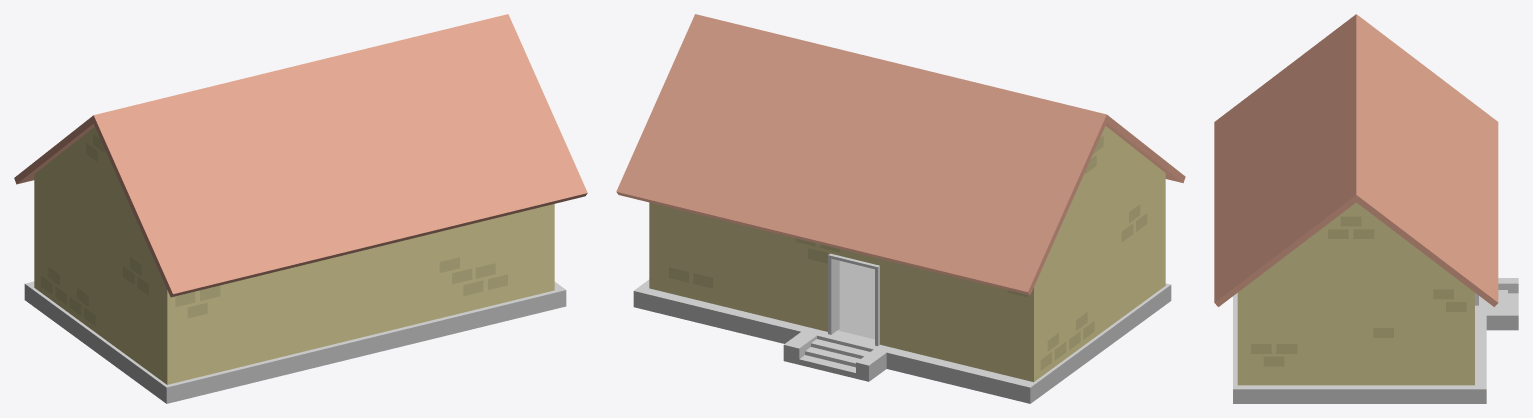
Rendered from HouseAbandomed.fbx.
The picture shows the model from 3 angles, left to right: view 1: azimuth 30°, elevation 25°; view 2: azimuth 150°, elevation 25°; view 3: azimuth 270°, elevation 25°; orthographic projection. The views are drawn at different scales.
Visible parts, largest first — view 1: HouseAbandomed; view 2: HouseAbandomed; view 3: HouseAbandomed.
Part boxes in pixels (box(x1,y1,x2,y2)): HouseAbandomed: box(14, 14, 587, 403); HouseAbandomed: box(616, 14, 1185, 403); HouseAbandomed: box(1214, 14, 1518, 403).
Size of the model in its own units: 12.16 by 6.7 by 8.64.
